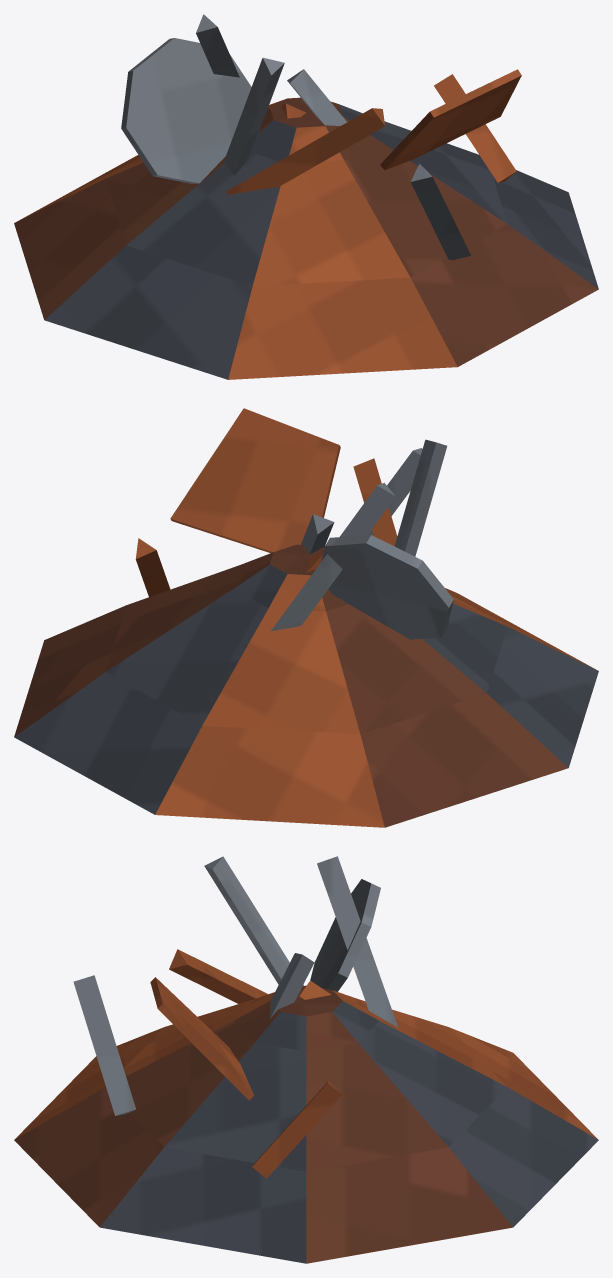
Rendered from SM_Prop_ScrapPile_HQ.glb.
The picture shows the model from 3 angles, top to bottom: view 1: azimuth 30°, elevation 25°; view 2: azimuth 150°, elevation 25°; view 3: azimuth 270°, elevation 25°; orthographic projection. The views are drawn at different scales.
Visible parts, largest first — view 1: SM_Prop_ScrapPile_HQ; view 2: SM_Prop_ScrapPile_HQ; view 3: SM_Prop_ScrapPile_HQ.
Part boxes in pixels (left/top/right/bottom): SM_Prop_ScrapPile_HQ: left=14, top=14, right=598, bottom=379; SM_Prop_ScrapPile_HQ: left=14, top=408, right=598, bottom=827; SM_Prop_ScrapPile_HQ: left=14, top=856, right=598, bottom=1263.
Size of the model in its own units: 1.6 by 0.7335 by 1.6.
1 material, 1 textured.
